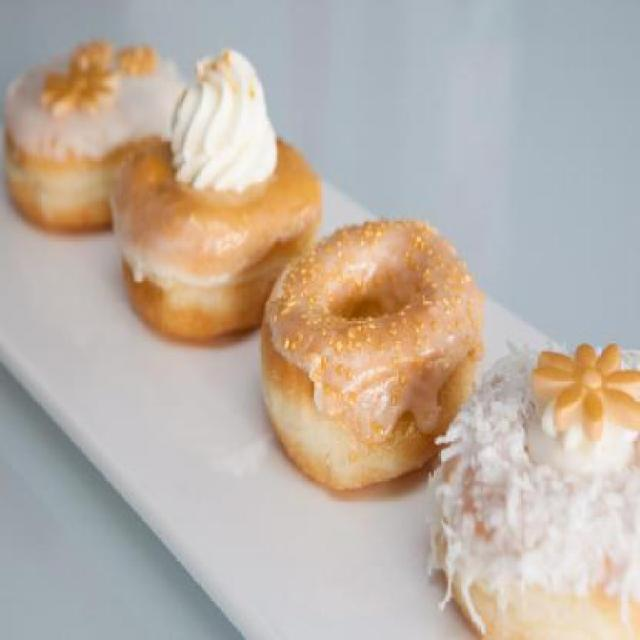Bagel: (260, 210, 482, 492)
